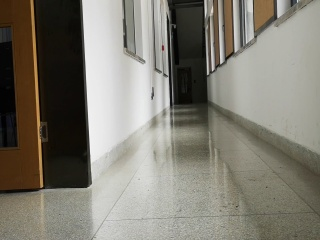room: (2, 2, 93, 192)
